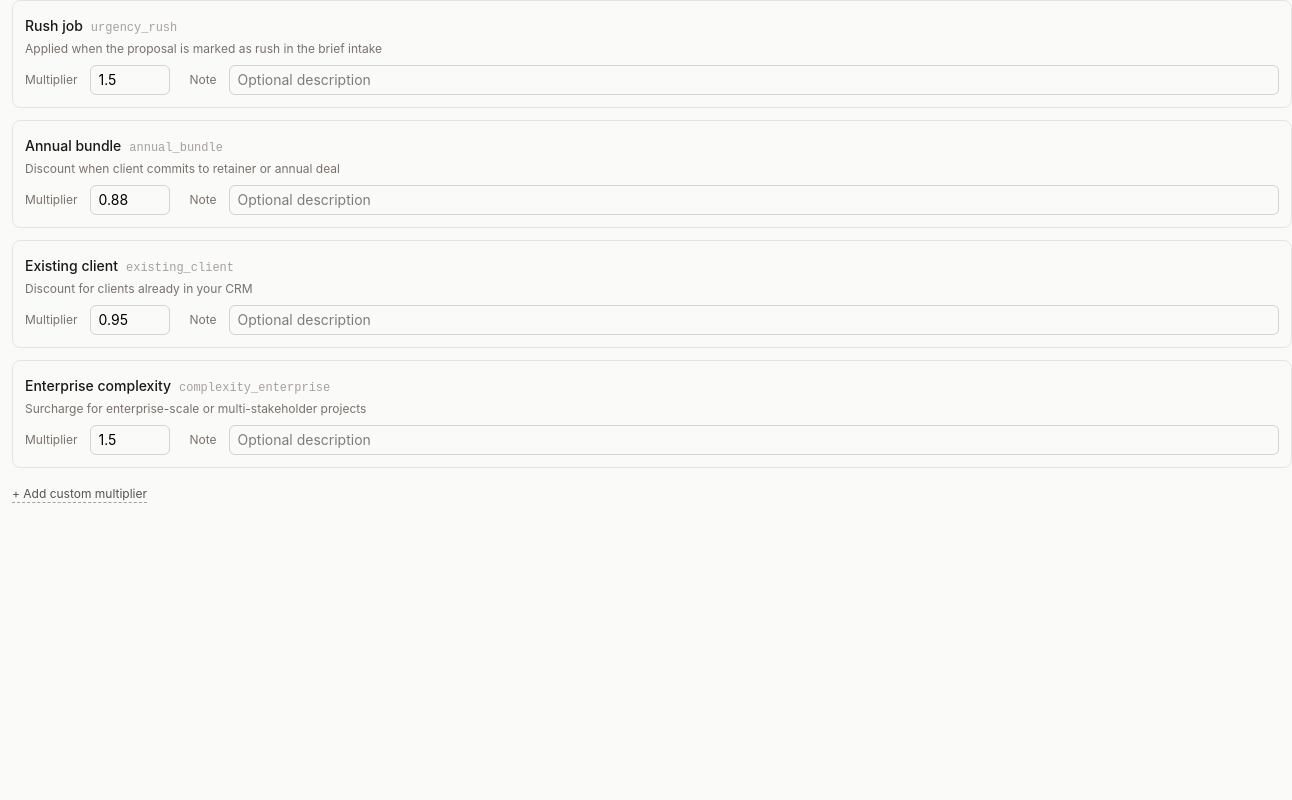
MultipliersStep › shows a warning when the Add custom button is clicked
Click the button "+ Add custom multiplier".
click(80, 494)  # box [12,486,147,503]
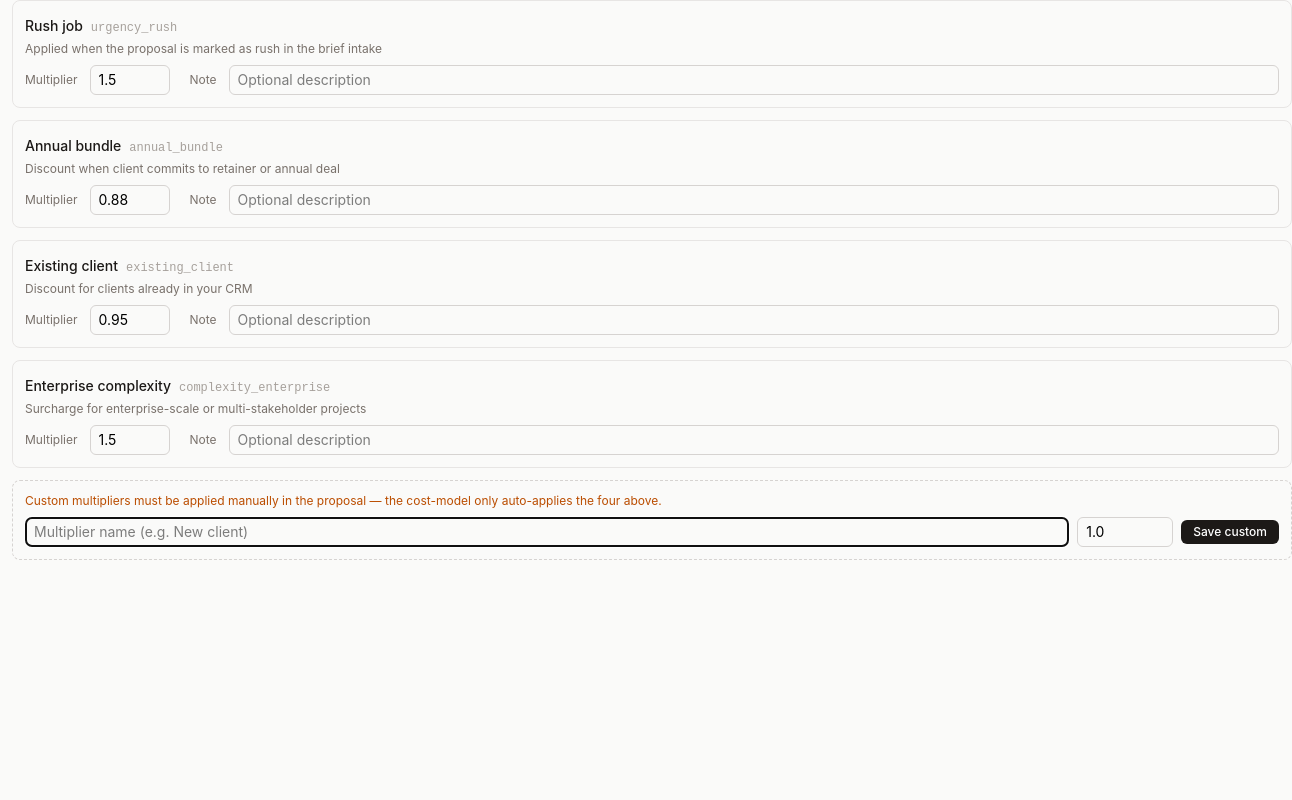
Check: the text "cost-model only auto-applies the four above" is shown, box [25,493,662,508]
